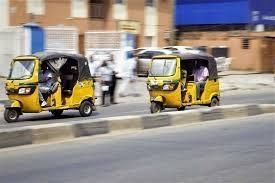keke: (4, 52, 96, 122), (147, 50, 229, 119)
